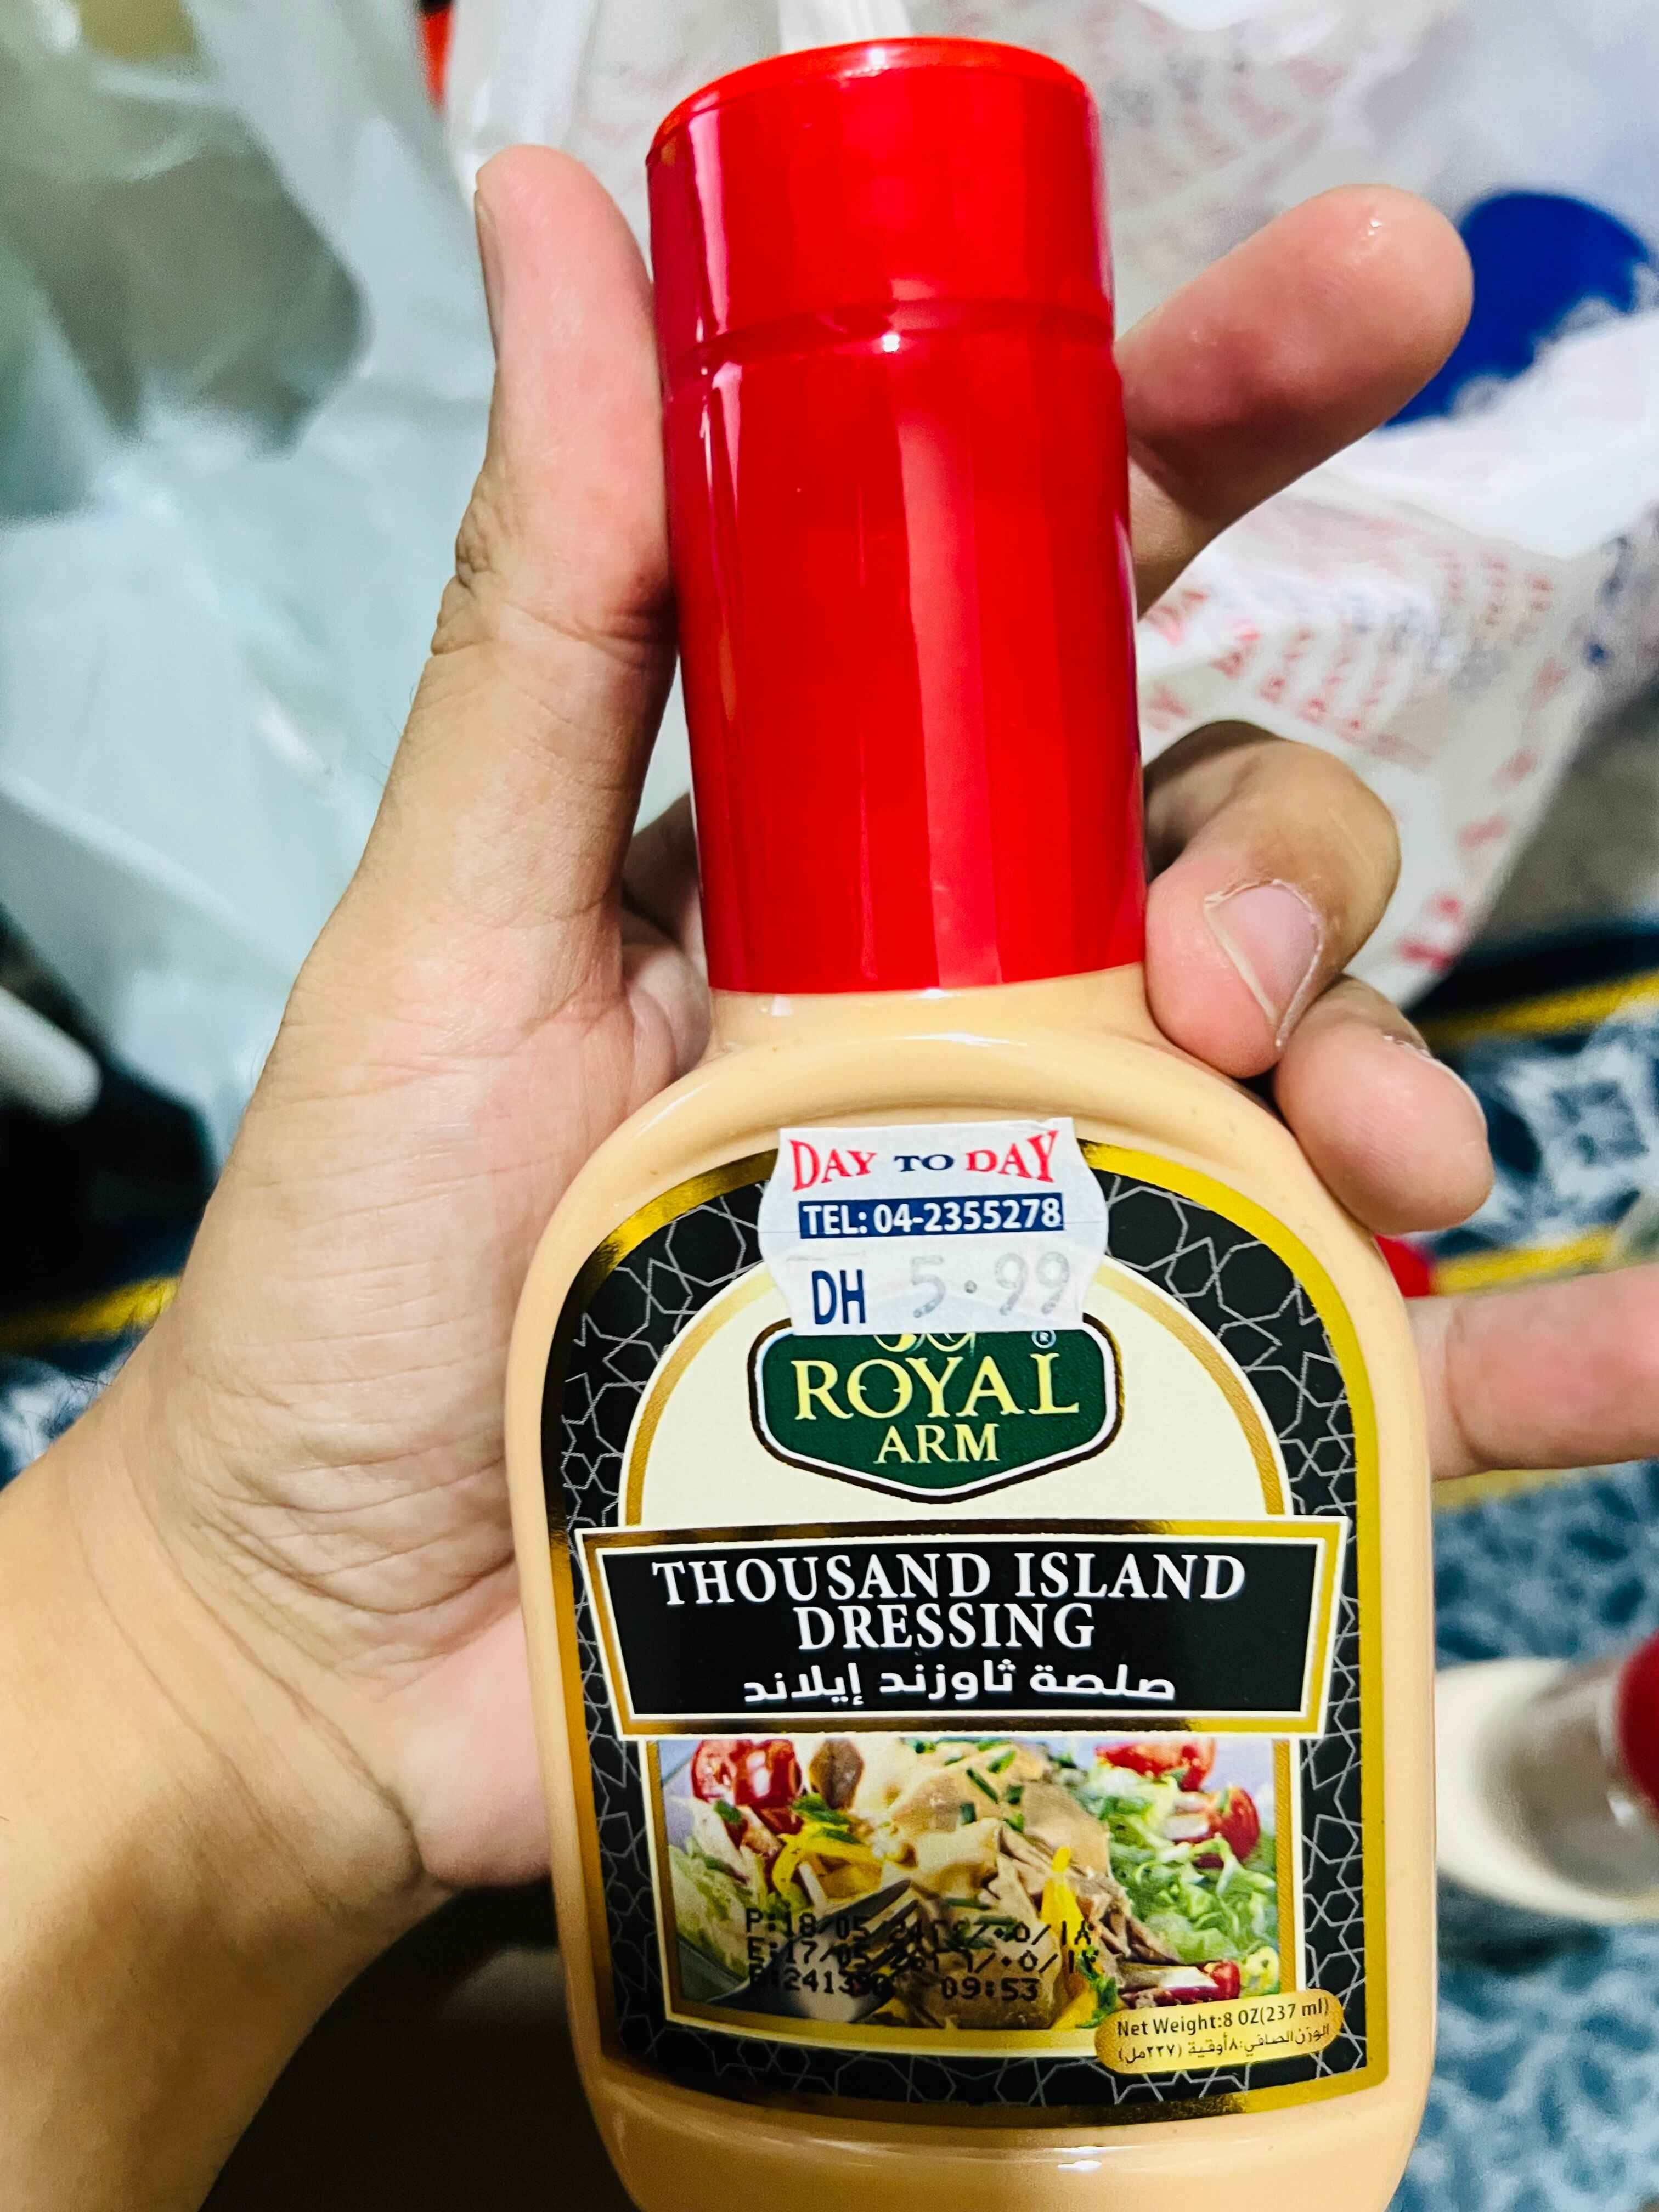PriceTagSmall: (760, 1123, 1115, 1343)
